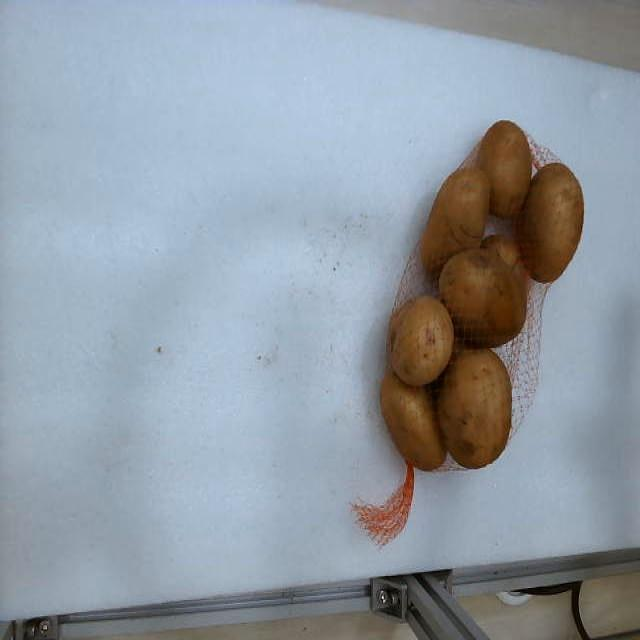potato: (436, 350, 511, 468), (439, 248, 526, 346), (516, 163, 584, 282), (421, 168, 490, 276), (381, 365, 446, 470), (388, 295, 454, 386), (476, 120, 531, 218), (481, 235, 520, 268)
